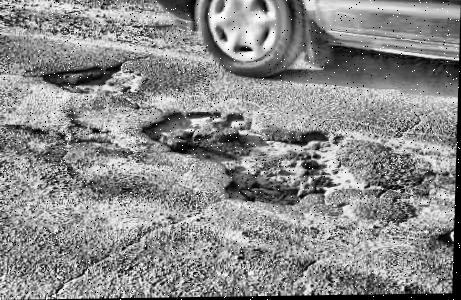pothole: (138, 105, 367, 208), (39, 61, 144, 95)
